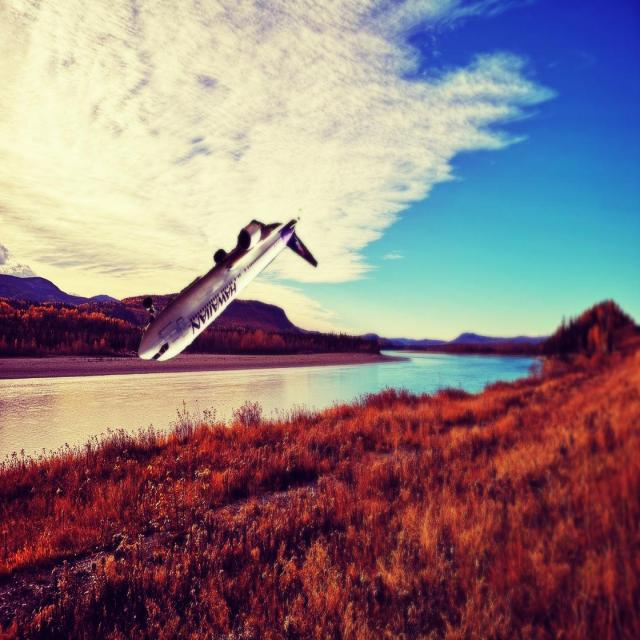airplane: (137, 216, 318, 362)
